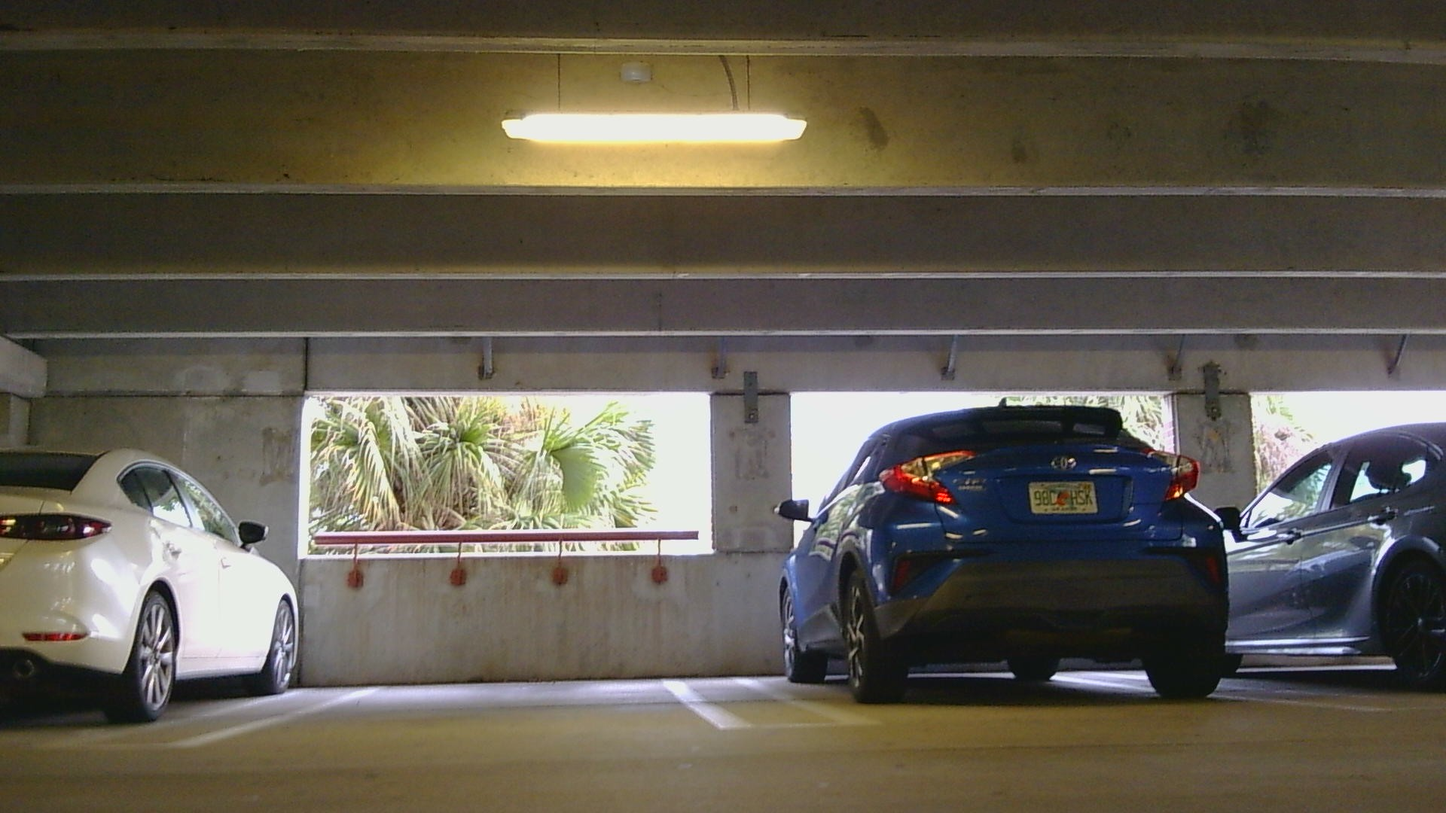empty_spot: (162, 586, 778, 753)
occupied_spot: (759, 394, 1238, 727), (0, 449, 298, 739), (1220, 413, 1445, 687)
